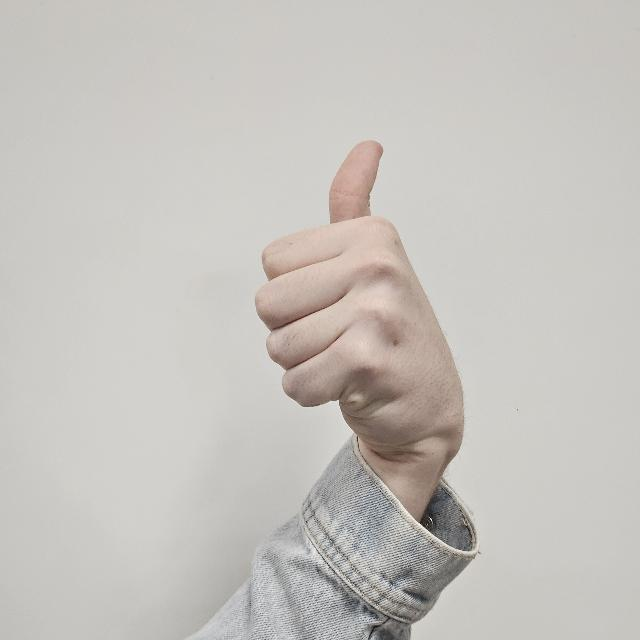Start: (254, 133, 424, 429)
